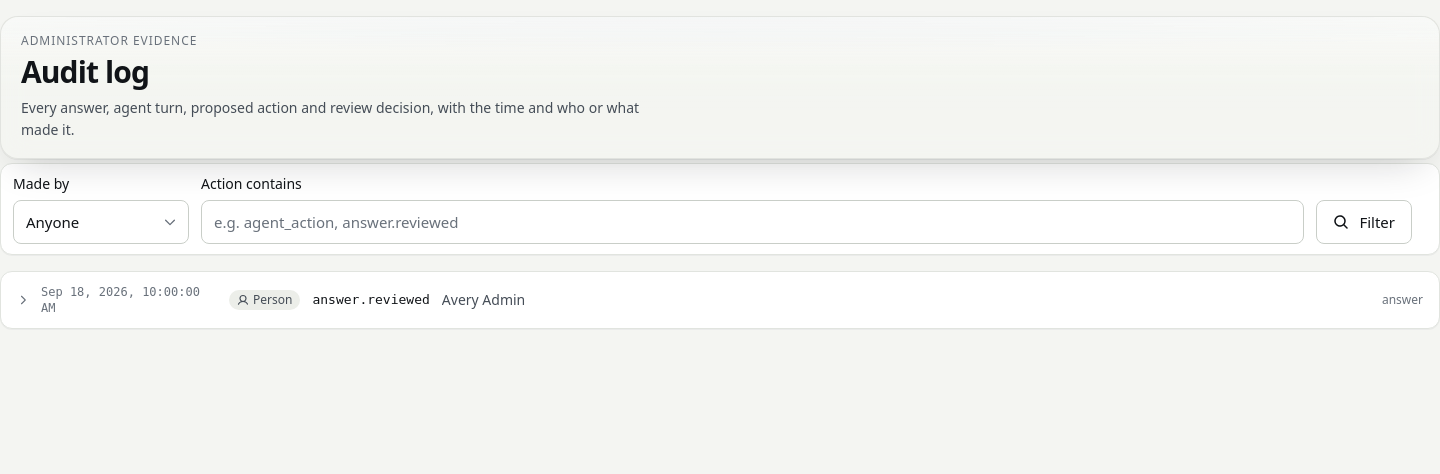
administrator evidence surfaces › shows attributable audit evidence and inspectable recorded details
This screenshot has width=1440, height=474.
Check: the text "Person" is shown, box [229,290,300,310]
Check: the text "Avery Admin" is shown, box [442,290,525,309]
Click the text "answer.reviewed": [371, 300] box [312,290,430,310]
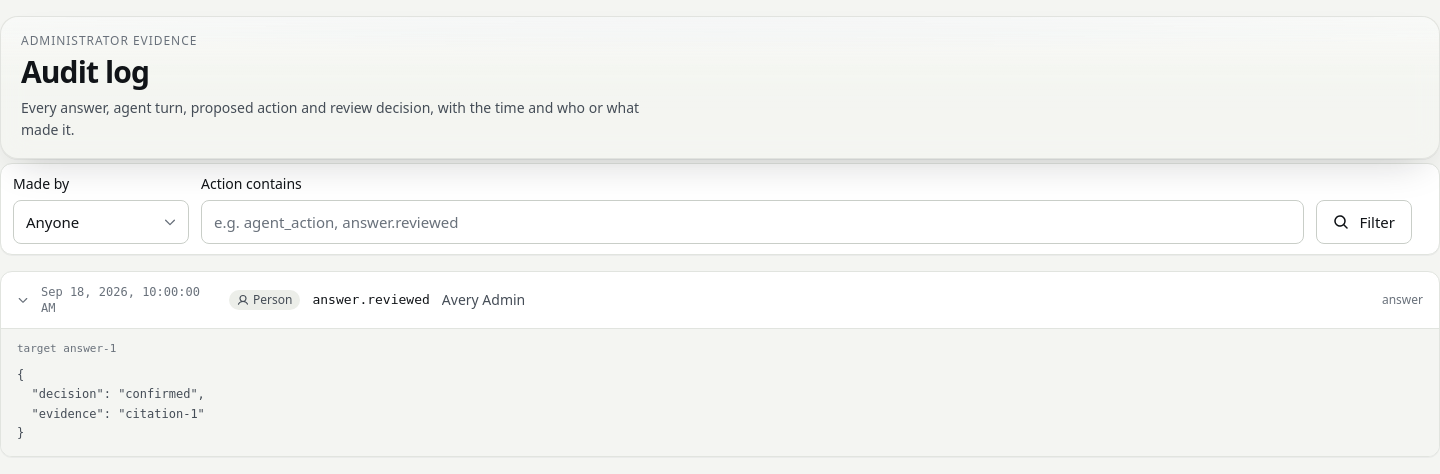
Check: the text "target answer-1" is shown, box [17,342,116,355]
Check: the text "{ \"decision\": \"confirmed\", \"evidence\": \"citation-1\" }" is shown, box [17,368,205,440]
